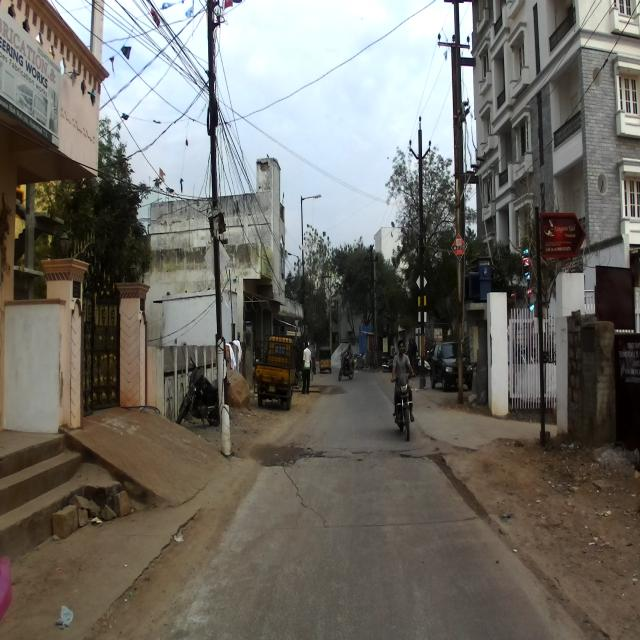electric pole ahead at: (438, 1, 482, 398), (198, 1, 233, 457)
truck ahead at: (254, 327, 298, 411)
